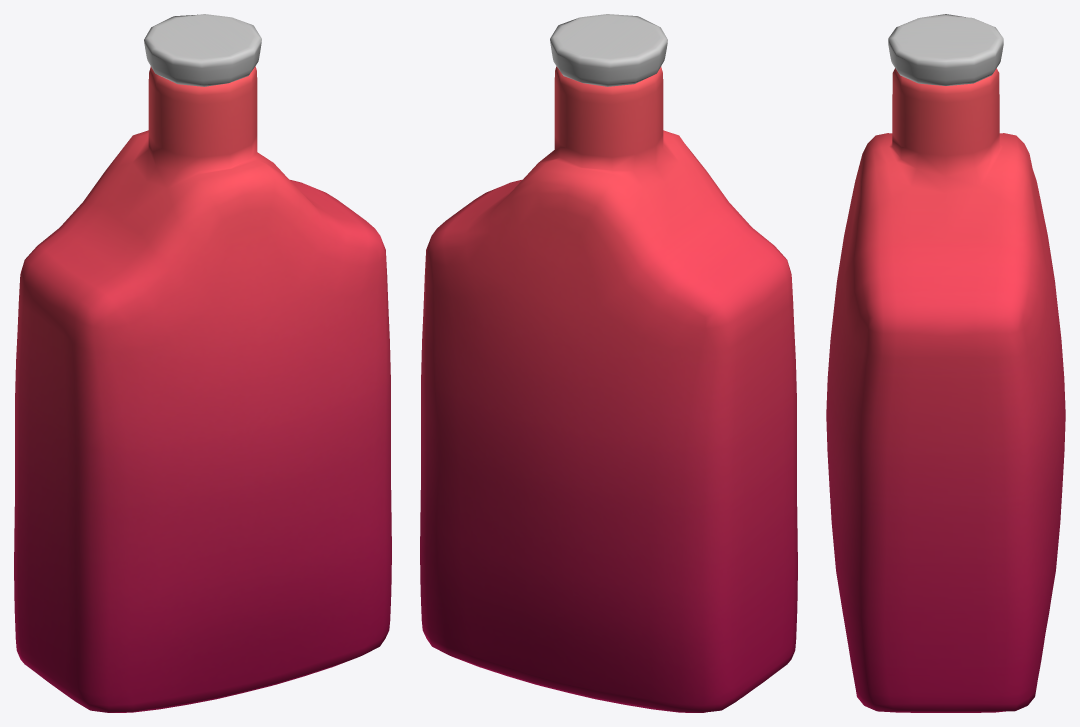
The model's file is ketchup.fbx.
3 renders of one model, left to right at view 1: azimuth 30°, elevation 25°; view 2: azimuth 150°, elevation 25°; view 3: azimuth 270°, elevation 25°, orthographic.
Parts seen in each view (by area): view 1: Retopo_Cylinder, Retopo_Cylinder.001; view 2: Retopo_Cylinder, Retopo_Cylinder.001; view 3: Retopo_Cylinder, Retopo_Cylinder.001.
Part boxes in pixels (x1,y1,x2,y2): Retopo_Cylinder: [14, 66, 391, 712]; Retopo_Cylinder.001: [144, 14, 261, 86]; Retopo_Cylinder: [420, 66, 797, 712]; Retopo_Cylinder.001: [550, 14, 667, 86]; Retopo_Cylinder: [826, 68, 1065, 712]; Retopo_Cylinder.001: [888, 14, 1003, 85].
Size of the model in its own units: 644 by 1233 by 436.
